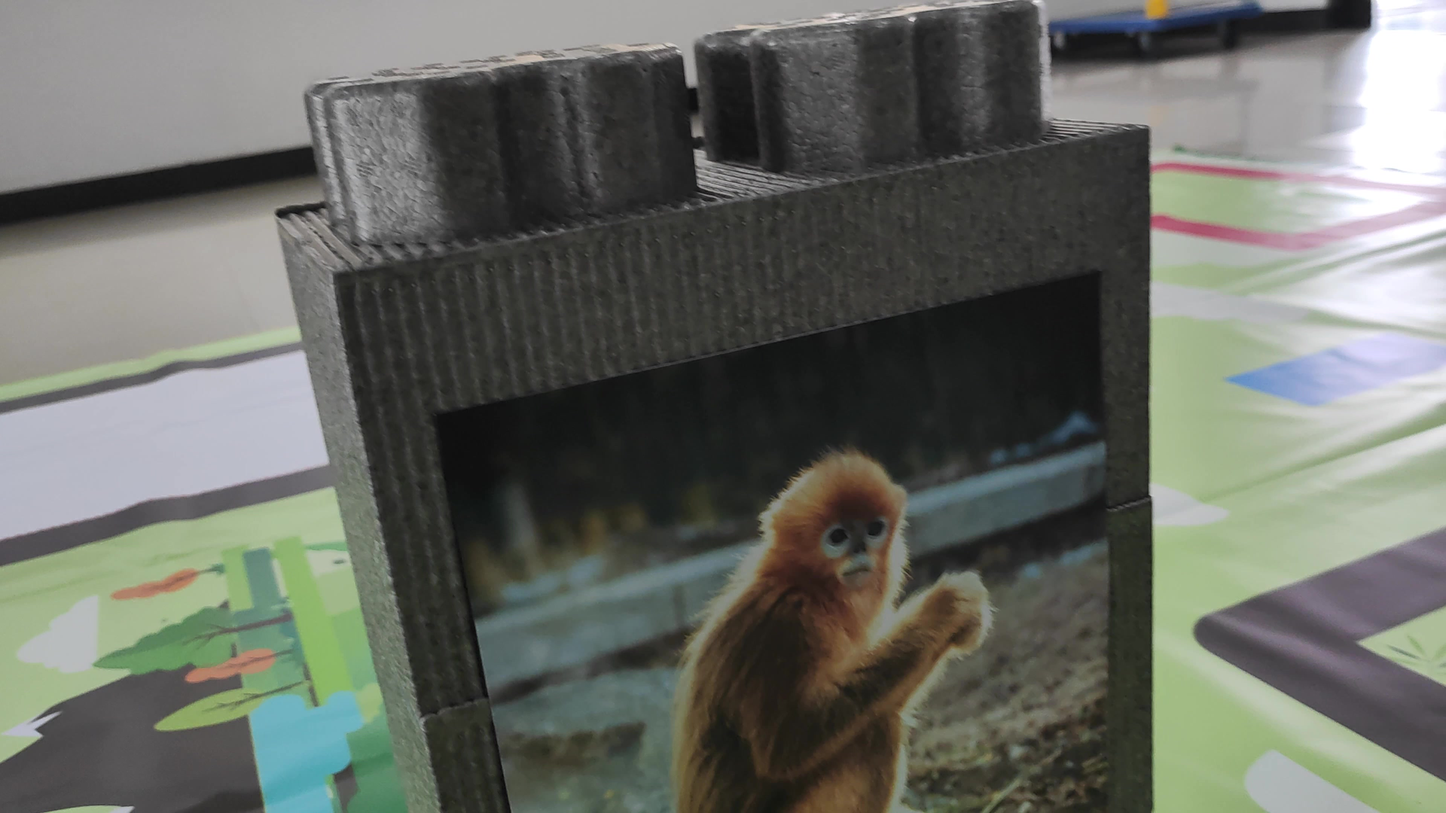monkey: (588, 354, 1039, 813)
